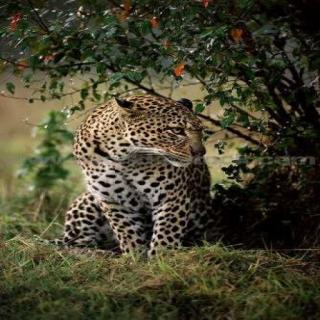Leopard: (65, 74, 222, 267)
